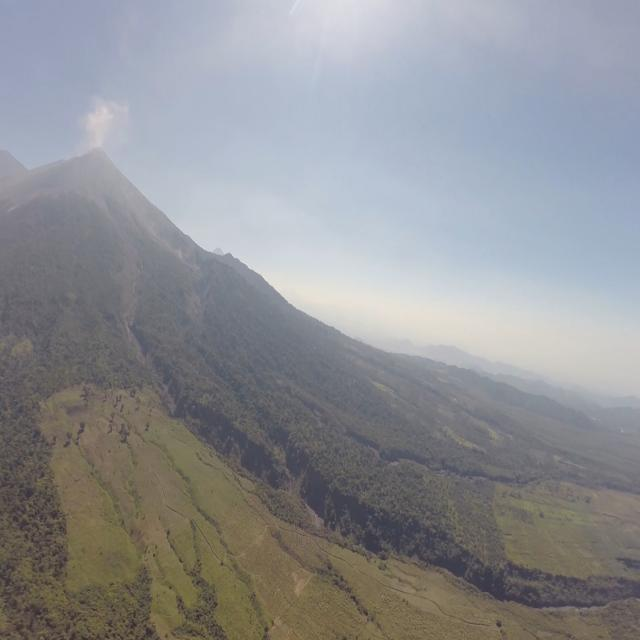Plume: (82, 97, 125, 148)
Summit: (84, 143, 115, 175)
